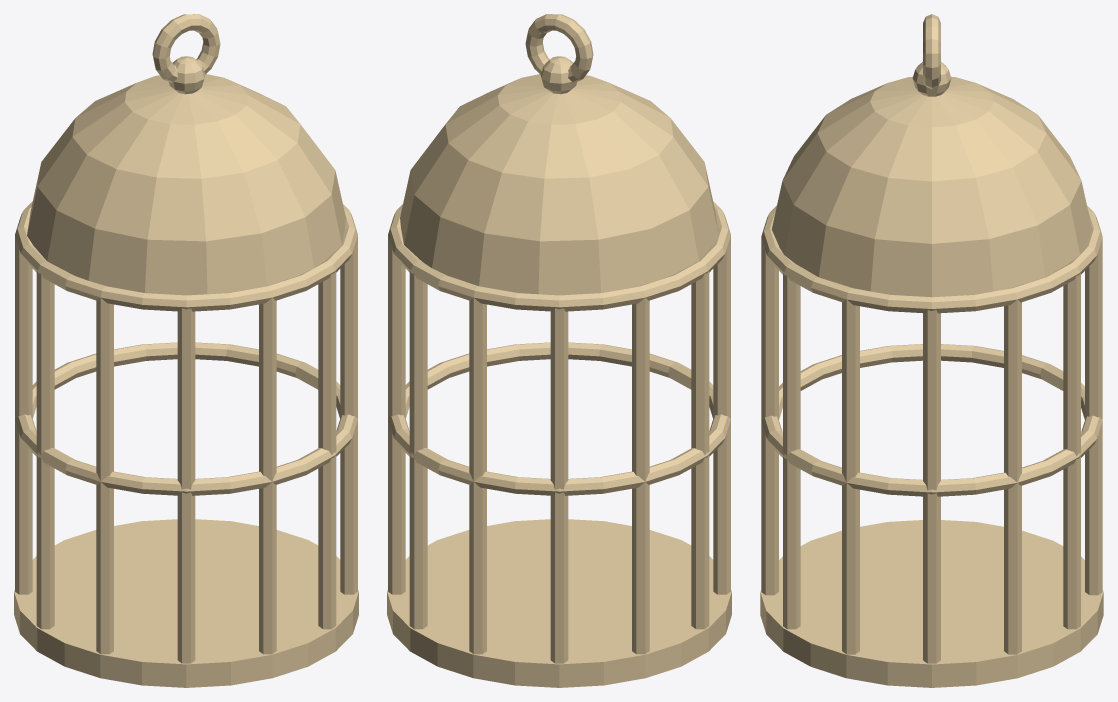
File: grotto_birdcage.fbx
3 renders of one model, left to right at view 1: azimuth 30°, elevation 25°; view 2: azimuth 150°, elevation 25°; view 3: azimuth 270°, elevation 25°, orthographic.
Parts seen in each view (by area): view 1: Cage_Dome, Cage_Base, Cage_RingMid, Cage_RingTop, Cage_Bar_09, Cage_Bar_07, Cage_Bar_11, Cage_Bar_08, Cage_Bar_10, Cage_Bar_06, Cage_Bar_12, Cage_HangRing (+1 smaller); view 2: Cage_Dome, Cage_Base, Cage_RingMid, Cage_RingTop, Cage_Bar_05, Cage_Bar_03, Cage_Bar_07, Cage_Bar_04, Cage_Bar_06, Cage_Bar_02, Cage_Bar_08, Cage_HangRing (+1 smaller); view 3: Cage_Dome, Cage_Base, Cage_RingMid, Cage_RingTop, Cage_Bar_01, Cage_Bar_02, Cage_Bar_12, Cage_Bar_03, Cage_Bar_11, Cage_Bar_04, Cage_Bar_10, Cage_HangRing (+1 smaller).
Boxes of the visible parts, box(x1,y1,x2,y2) form: Cage_Dome: box(27, 74, 345, 295); Cage_Base: box(14, 519, 358, 687); Cage_RingMid: box(15, 342, 357, 495); Cage_RingTop: box(15, 201, 357, 311); Cage_Bar_09: box(177, 308, 195, 663); Cage_Bar_07: box(36, 271, 54, 629); Cage_Bar_11: box(318, 271, 336, 629); Cage_Bar_08: box(96, 297, 113, 654); Cage_Bar_10: box(259, 297, 276, 654); Cage_Bar_06: box(15, 236, 32, 594); Cage_Bar_12: box(340, 236, 357, 594); Cage_HangRing: box(152, 14, 220, 82); Cage_Dome: box(400, 74, 718, 295); Cage_Base: box(387, 519, 731, 687); Cage_RingMid: box(388, 342, 730, 495); Cage_RingTop: box(388, 201, 730, 311); Cage_Bar_05: box(550, 308, 568, 663); Cage_Bar_03: box(409, 271, 427, 629); Cage_Bar_07: box(691, 271, 709, 629); Cage_Bar_04: box(469, 297, 486, 654); Cage_Bar_06: box(632, 297, 649, 654); Cage_Bar_02: box(388, 236, 405, 594); Cage_Bar_08: box(713, 236, 730, 594); Cage_HangRing: box(525, 14, 593, 82); Cage_Dome: box(771, 76, 1092, 296); Cage_Base: box(760, 520, 1103, 687); Cage_RingMid: box(761, 344, 1102, 496); Cage_RingTop: box(761, 205, 1102, 313); Cage_Bar_01: box(923, 310, 940, 663); Cage_Bar_02: box(1004, 299, 1021, 654); Cage_Bar_12: box(842, 299, 859, 654); Cage_Bar_03: box(1063, 273, 1080, 629); Cage_Bar_11: box(783, 273, 800, 629); Cage_Bar_04: box(1085, 238, 1102, 595); Cage_Bar_10: box(761, 238, 778, 595); Cage_HangRing: box(923, 14, 940, 89).
Size of the model in its own units: 212 by 408 by 212.
